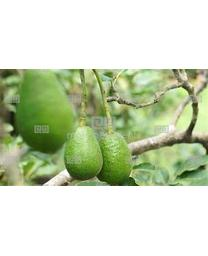avocado: (18, 71, 75, 152), (63, 125, 104, 181), (97, 131, 133, 183)
